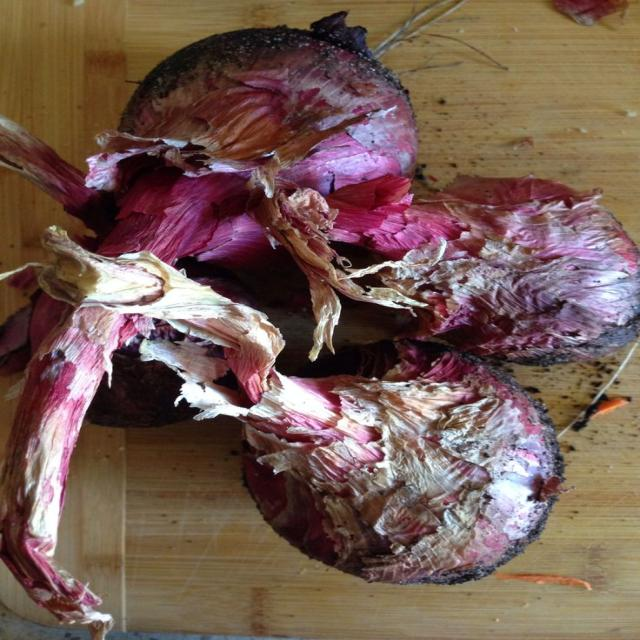mechanical_damage: (0, 12, 639, 639), (186, 72, 640, 303), (169, 341, 609, 552)
